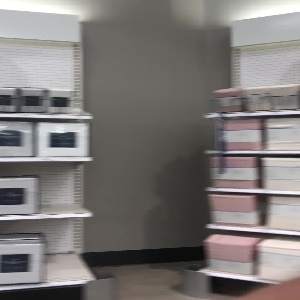void: (42, 217, 95, 285), (37, 162, 93, 214)
